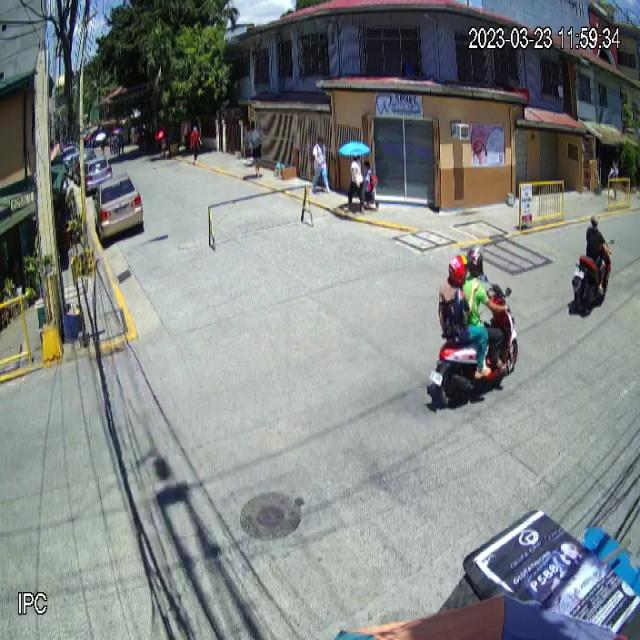Car: (93, 173, 144, 243)
Motorcycle: (428, 272, 519, 408), (571, 236, 615, 316)
